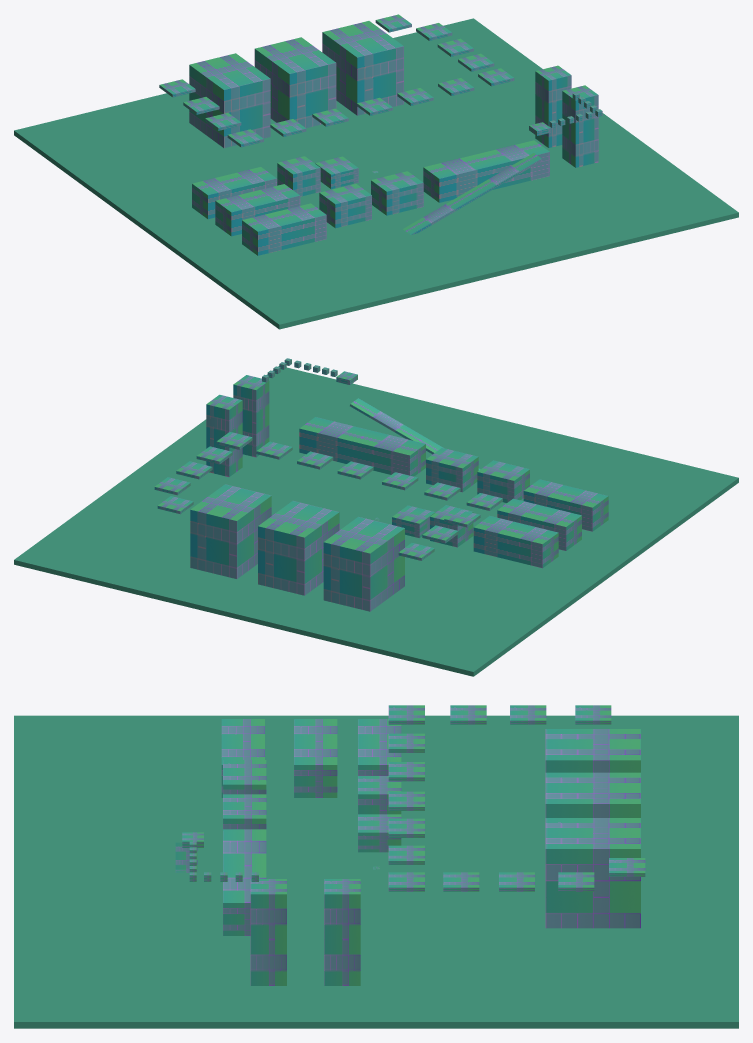
Rendered from stage1.obj.
The picture shows the model from 3 angles, top to bottom: view 1: azimuth 30°, elevation 25°; view 2: azimuth 150°, elevation 25°; view 3: azimuth 270°, elevation 25°; orthographic projection. The views are drawn at different scales.
Parts seen in each view (by area): view 1: 立方体.002; view 2: 立方体.002; view 3: 立方体.002.
Part boxes in pixels (x1,y1,x2,y2): 立方体.002: [14, 14, 738, 329]; 立方体.002: [14, 358, 738, 676]; 立方体.002: [14, 705, 738, 1028].
Size of the model in its own units: 200 by 35.41 by 200.
